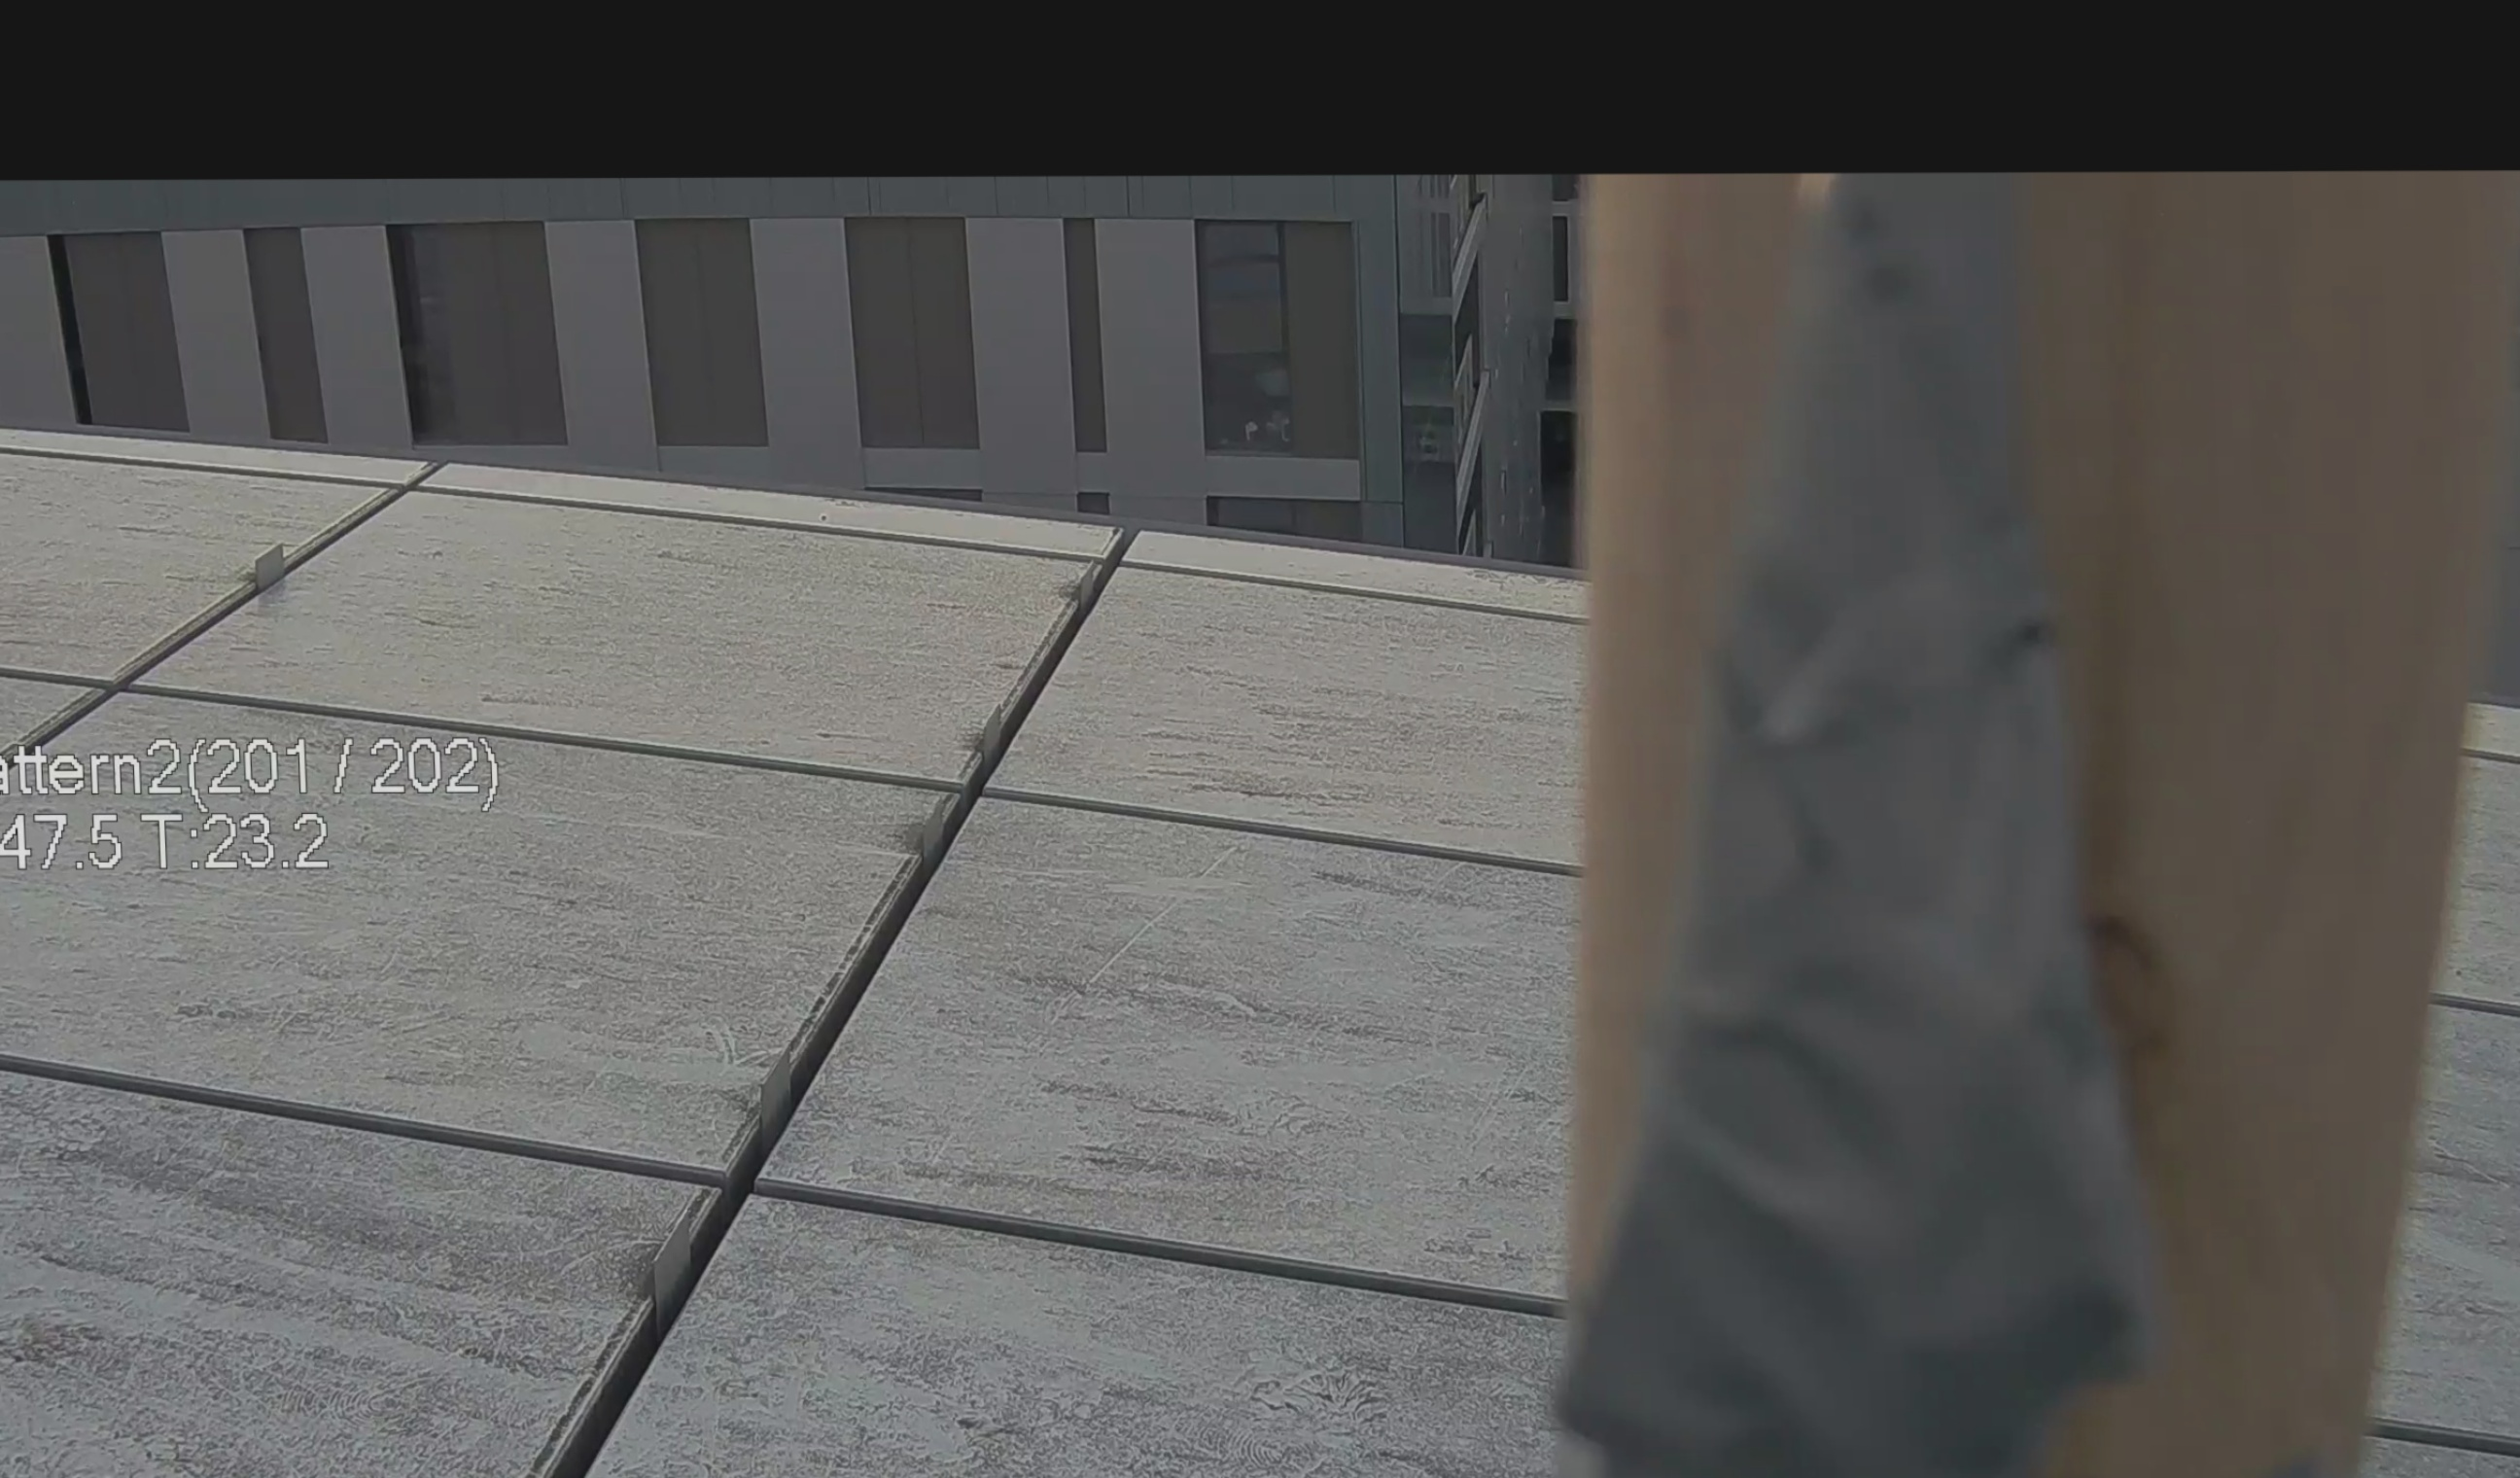Other: (1504, 171, 2497, 1478)
